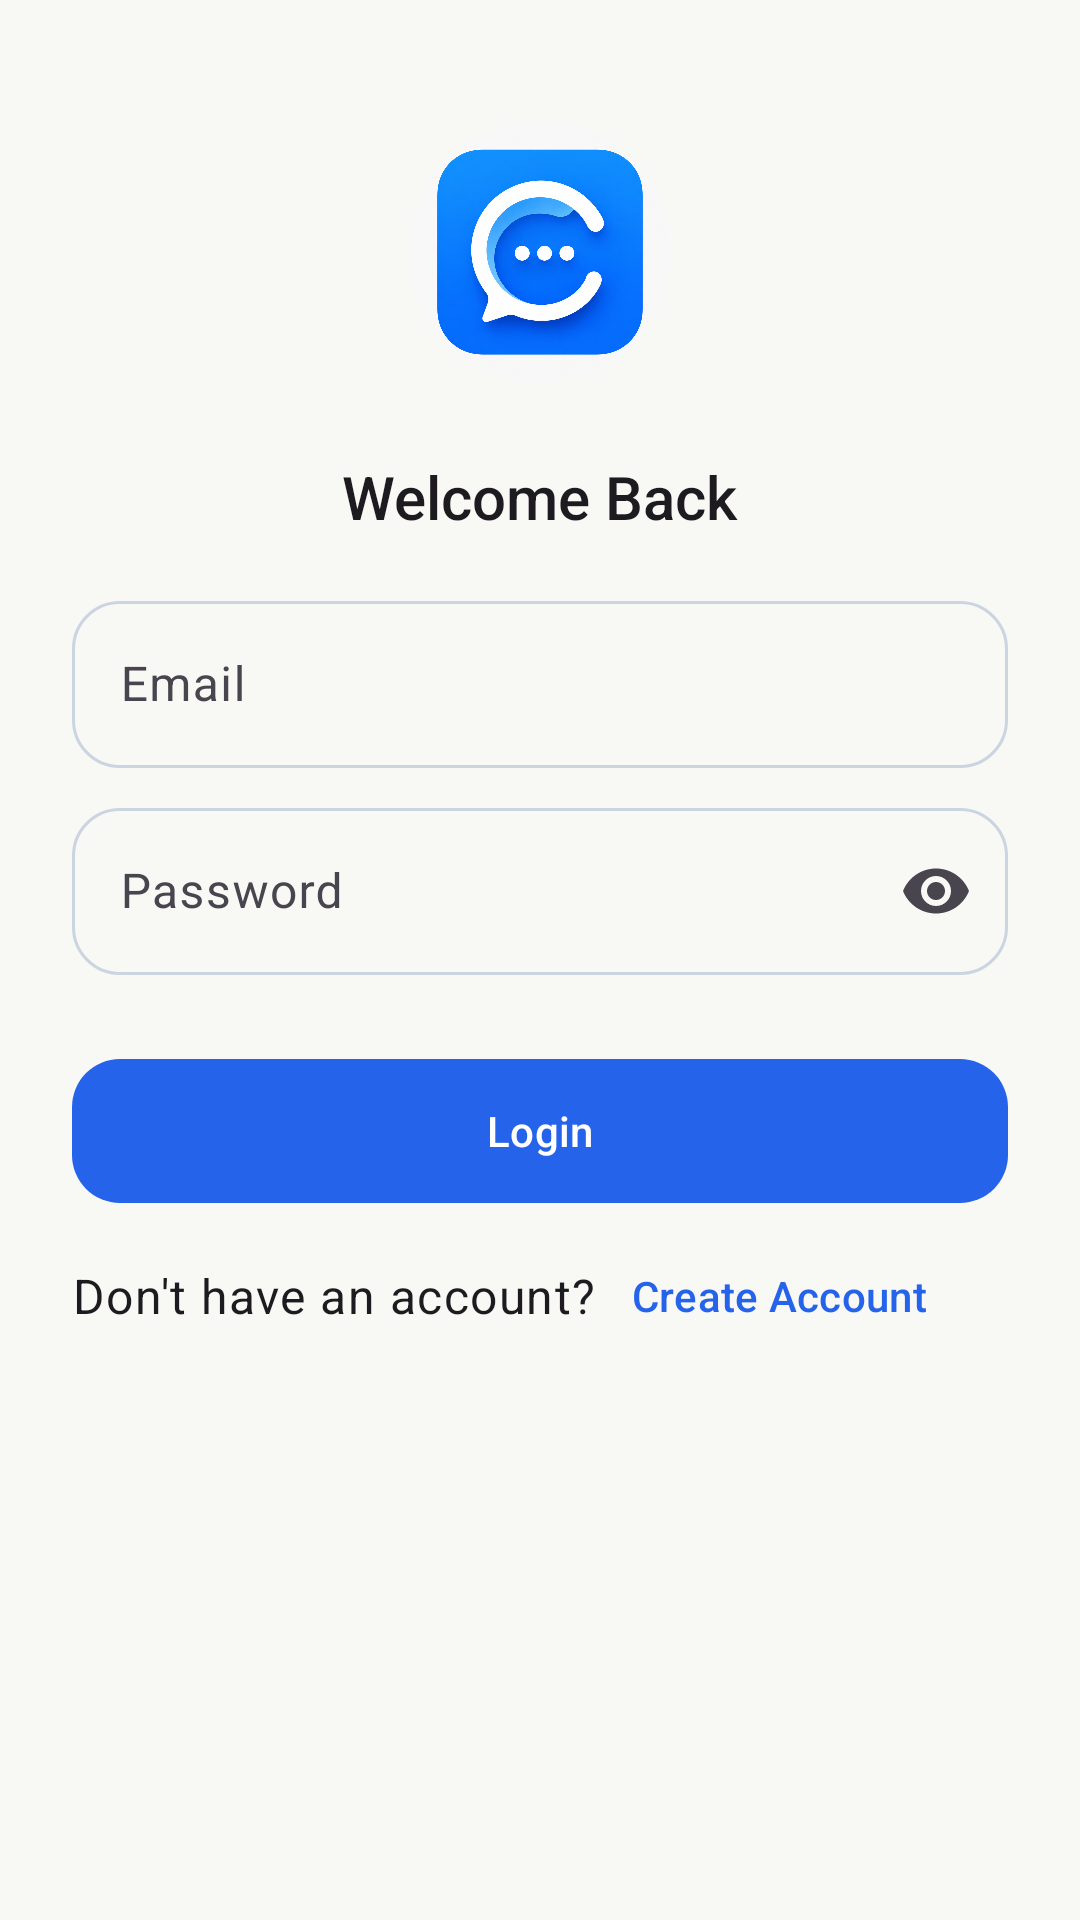

Screen size 1080×1920. Icon name, then its center in pixels as [x,y]:
chatting: [540,252]
